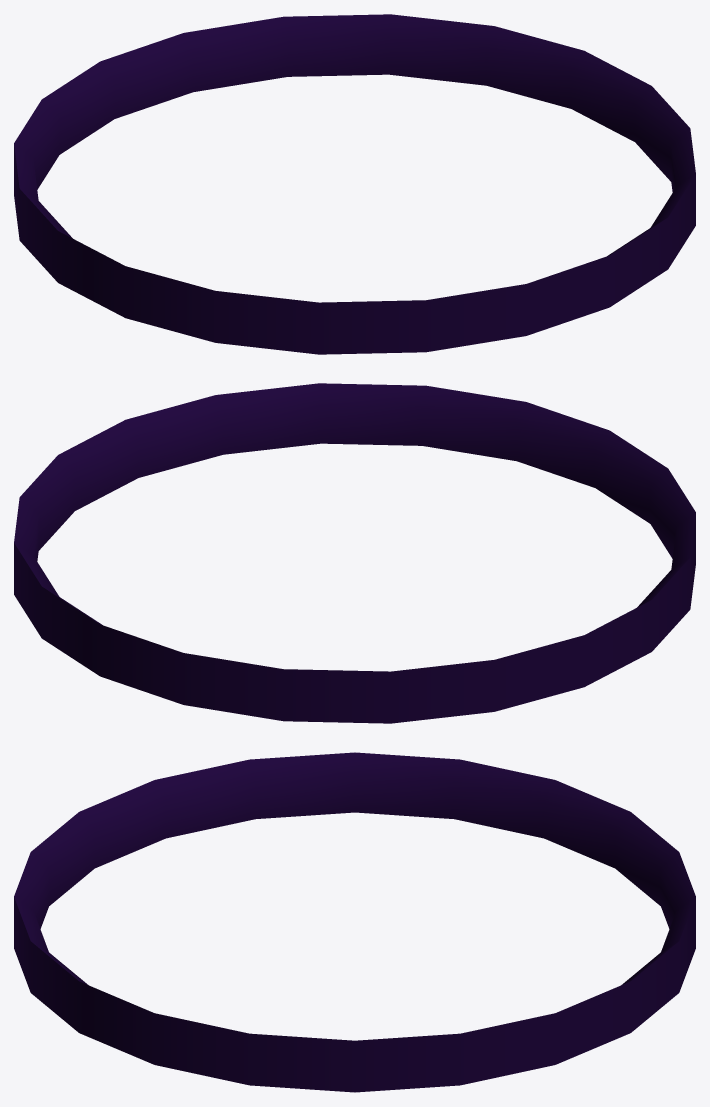
The model's file is ぷら内装1.fbx.
The picture shows the model from 3 angles, top to bottom: view 1: azimuth 30°, elevation 25°; view 2: azimuth 150°, elevation 25°; view 3: azimuth 270°, elevation 25°; orthographic projection.
Visible parts, largest first — view 1: obj1; view 2: obj1; view 3: obj1.
Boxes of the visible parts, x1,y1,x2,y2 form: obj1: (14, 14, 695, 354); obj1: (14, 383, 695, 723); obj1: (14, 752, 695, 1092).
Size of the model in its own units: 4000 by 336 by 4000.
